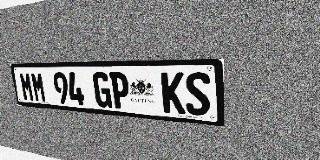4: (66, 72, 85, 106)
9: (52, 72, 70, 104)
G: (92, 72, 112, 108)
K: (161, 72, 185, 114)
M: (30, 72, 47, 102), (19, 72, 35, 101)
P: (109, 72, 131, 109)
S: (185, 72, 211, 116)
